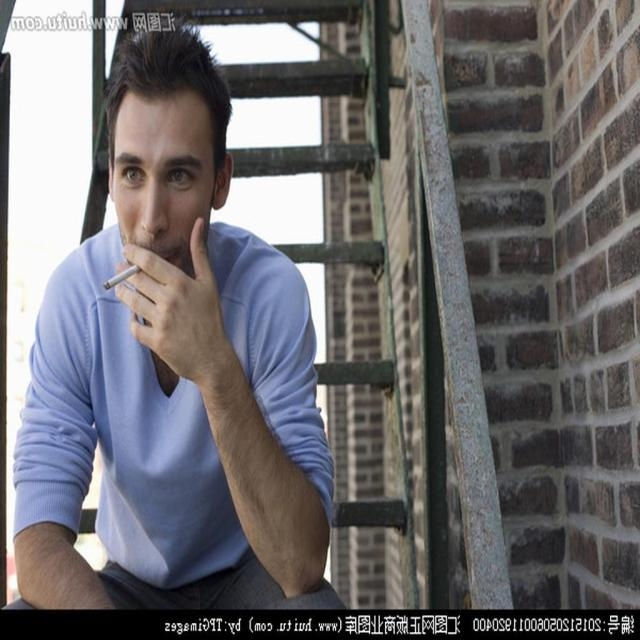smoking: (101, 26, 233, 344)
